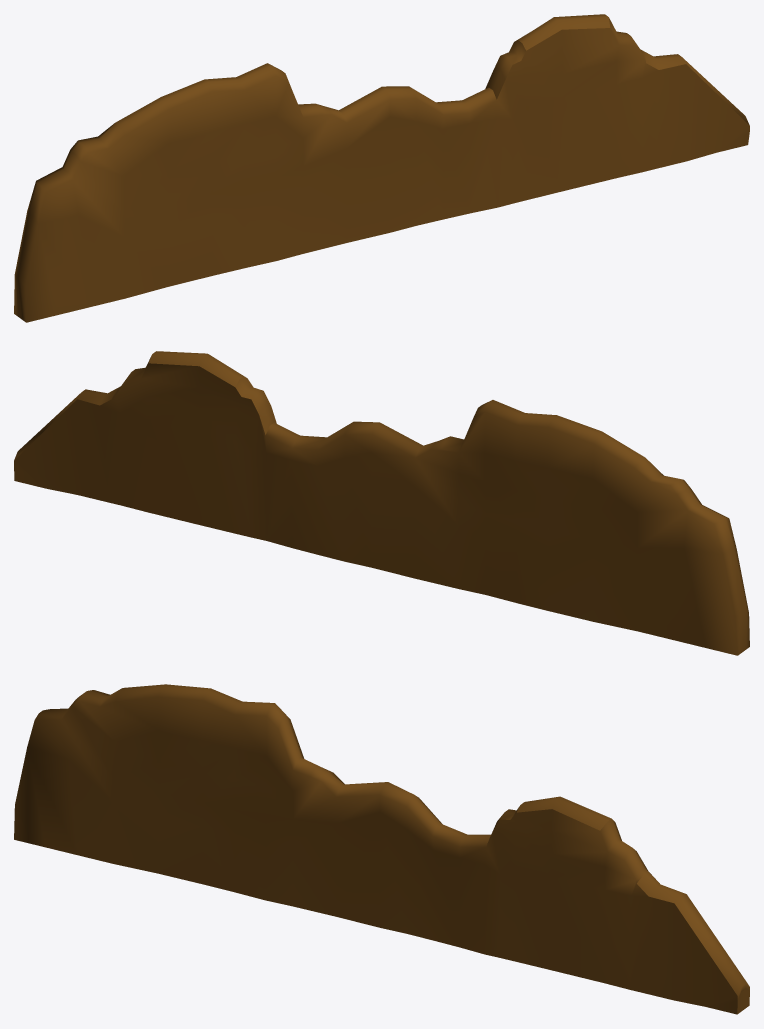
The model's file is Prop_RuinWall1.FBX.
3 views of the same model, one above another, from view 1: azimuth 30°, elevation 25°; view 2: azimuth 150°, elevation 25°; view 3: azimuth 330°, elevation 25° (orthographic).
Visible parts, largest first — view 1: Ruin wall 1; view 2: Ruin wall 1; view 3: Ruin wall 1.
Part boxes in pixels (x1,y1,x2,y2): Ruin wall 1: (14, 14, 749, 322); Ruin wall 1: (14, 351, 749, 655); Ruin wall 1: (14, 684, 749, 1014).
Size of the model in its own units: 702 by 176 by 24.68.
